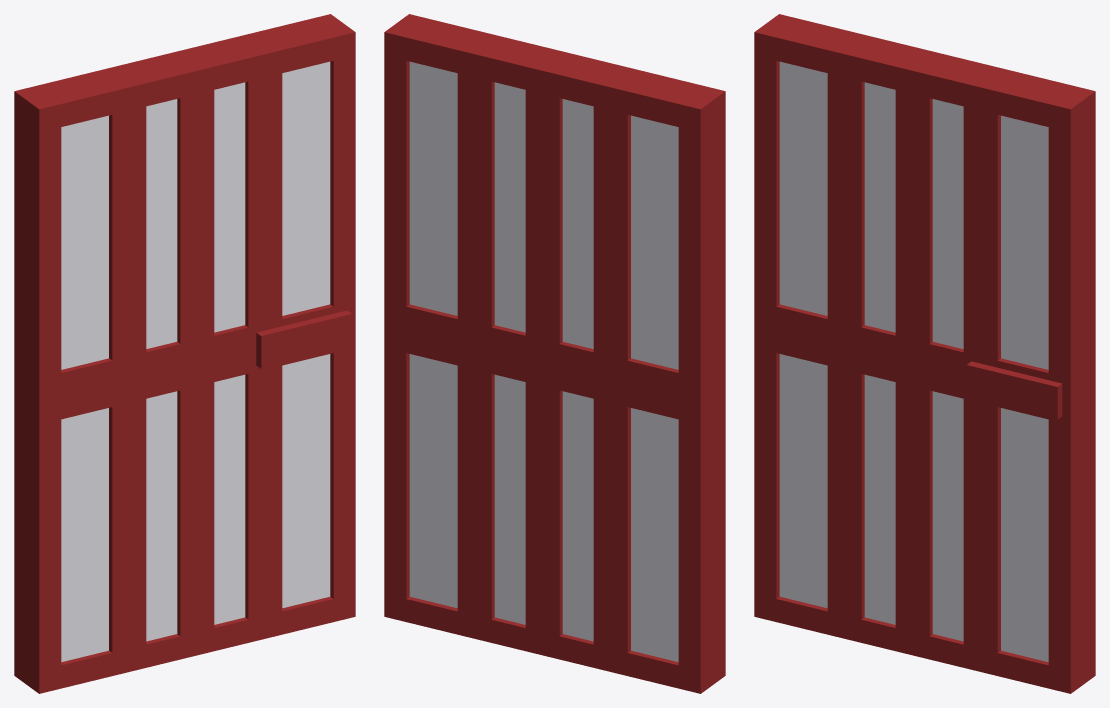
File: Asian_Prop_Building_Fence_Wall_Gateway_Gate_01.FBX
The picture shows the model from 3 angles, left to right: view 1: azimuth 30°, elevation 25°; view 2: azimuth 150°, elevation 25°; view 3: azimuth 330°, elevation 25°; orthographic projection.
Visible parts, largest first — view 1: Asian_Prop_Building_Fence_Wall_Gateway_Gate_01; view 2: Asian_Prop_Building_Fence_Wall_Gateway_Gate_01; view 3: Asian_Prop_Building_Fence_Wall_Gateway_Gate_01.
Boxes of the visible parts, box(x1,y1,x2,y2) form: Asian_Prop_Building_Fence_Wall_Gateway_Gate_01: box(14, 14, 355, 693); Asian_Prop_Building_Fence_Wall_Gateway_Gate_01: box(384, 14, 725, 693); Asian_Prop_Building_Fence_Wall_Gateway_Gate_01: box(754, 14, 1095, 693).
Bounding box in the file's own units: 2098 × 3704 × 342.
